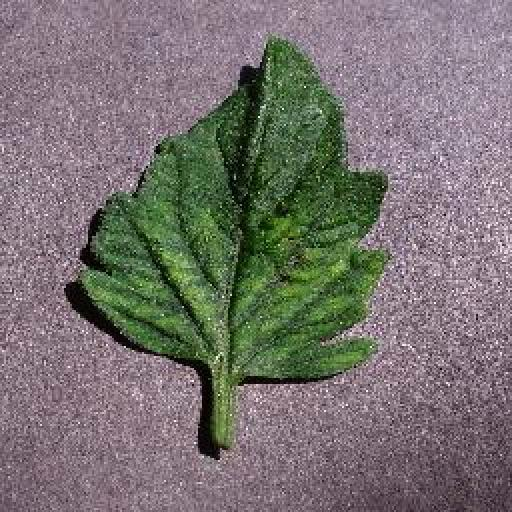Mosaic Virus: (78, 36, 390, 386)
